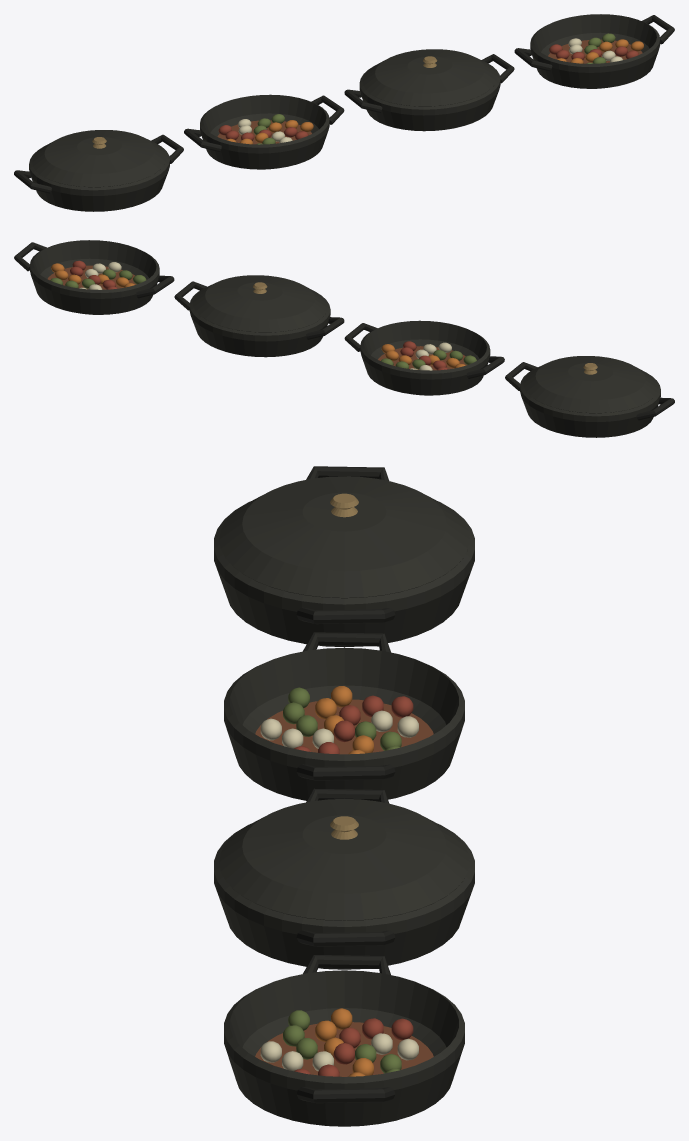
The model's file is hot.glb.
3 renders of one model, top to bottom at view 1: azimuth 30°, elevation 25°; view 2: azimuth 150°, elevation 25°; view 3: azimuth 270°, elevation 25°, orthographic. The views are drawn at different scales.
Visible parts, largest first — view 1: hot; view 2: hot; view 3: hot.
Boxes of the visible parts, <box> form: hot: <box>14,14,674,211</box>; hot: <box>14,240,674,437</box>; hot: <box>214,466,474,1126</box>.
Bounding box in the file's own units: 2.77 × 0.215 × 0.486.
